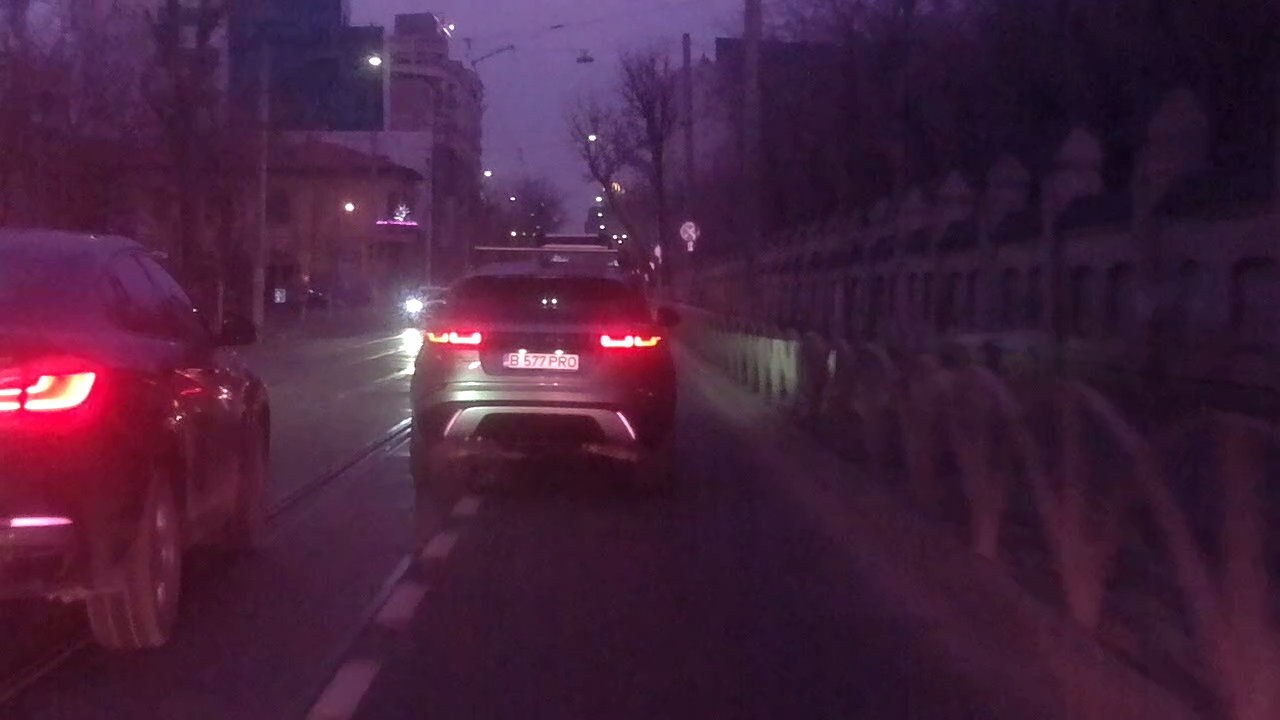license-plate: (499, 351, 582, 372)
